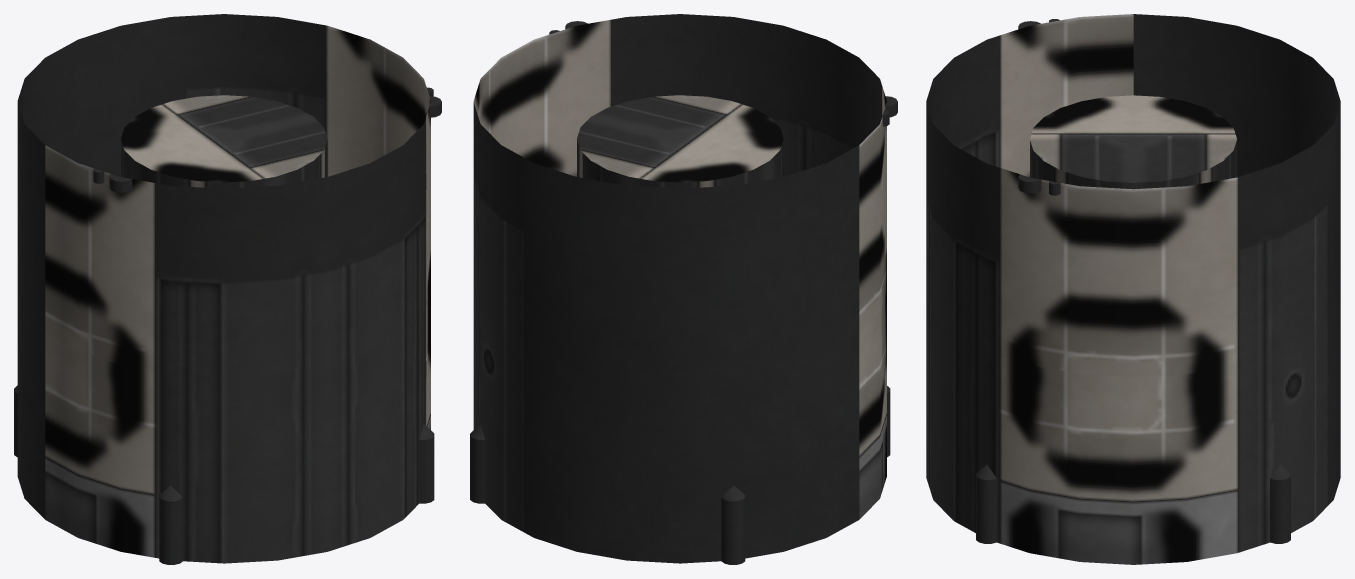
The model's file is hydra_lv_engine_mount_s2_2.obj.
The picture shows the model from 3 angles, left to right: view 1: azimuth 30°, elevation 25°; view 2: azimuth 150°, elevation 25°; view 3: azimuth 270°, elevation 25°; orthographic projection.
Visible parts, largest first — view 1: 1; view 2: 1; view 3: 1.
Boxes of the visible parts, <box> form: 1: <box>14,14,441,564</box>; 1: <box>470,14,897,564</box>; 1: <box>926,14,1340,564</box>.
Size of the model in its own units: 2.5 by 2.5 by 2.5.
